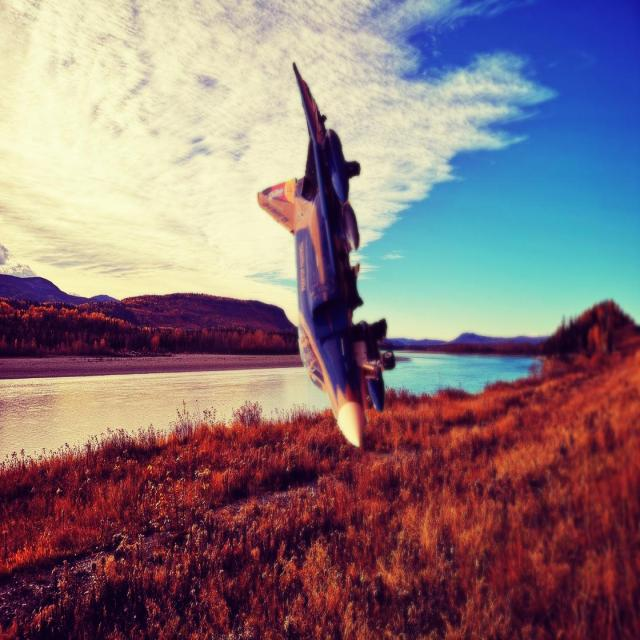airplane: (255, 60, 397, 448)
